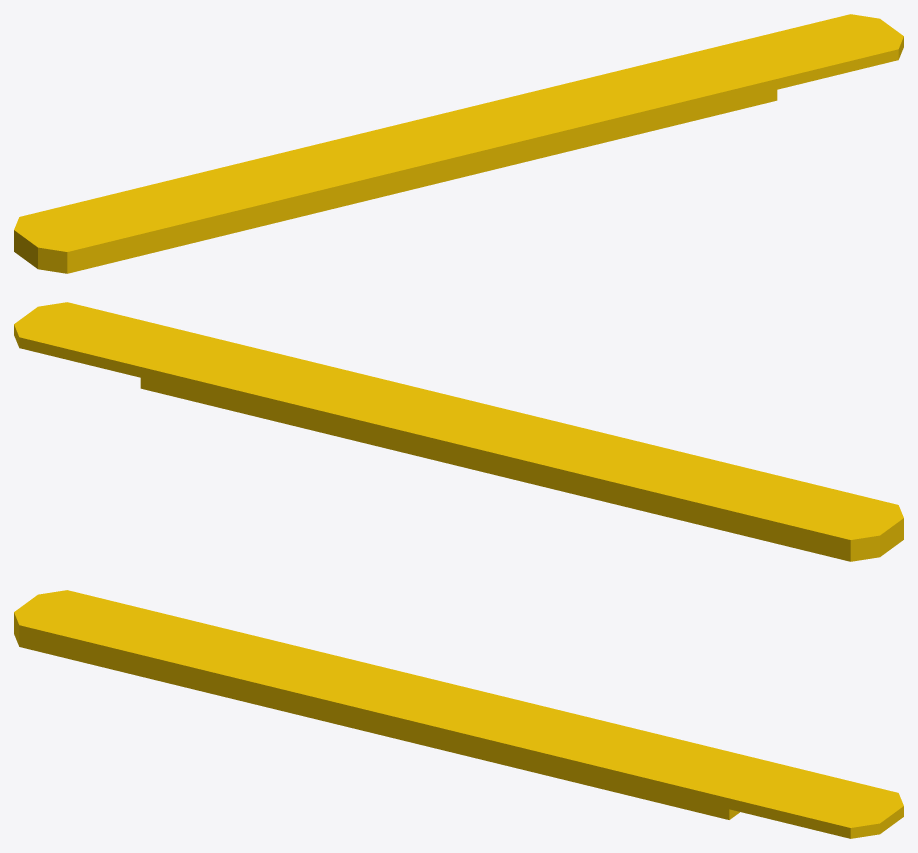
File: Strut.glb
The picture shows the model from 3 angles, top to bottom: view 1: azimuth 30°, elevation 25°; view 2: azimuth 150°, elevation 25°; view 3: azimuth 330°, elevation 25°; orthographic projection.
Parts seen in each view (by area): view 1: Strut; view 2: Strut; view 3: Strut.
Boxes of the visible parts, x1,y1,x2,y2 form: Strut: (14,14,903,273); Strut: (14,302,903,561); Strut: (14,590,903,838).
Bounding box in the file's own units: 2.5 × 0.06 × 0.24.
